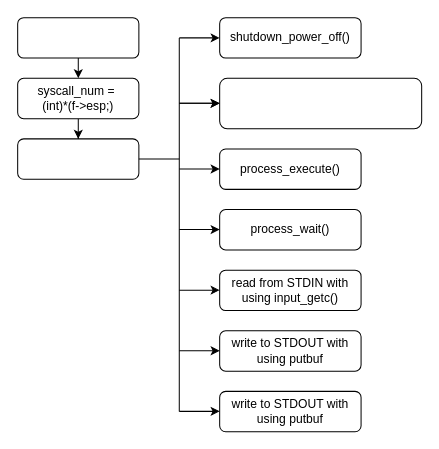
Image size: 439x449. Some labels were removed from this diagram. Here are the shapes that lost their labels. From the top down, the centre of each, then its label:
[78,37]: syscall_handler()
[320,103]: print exit status save exit status at current thread thread_exit()
[78,158]: switch(syscall_num)
